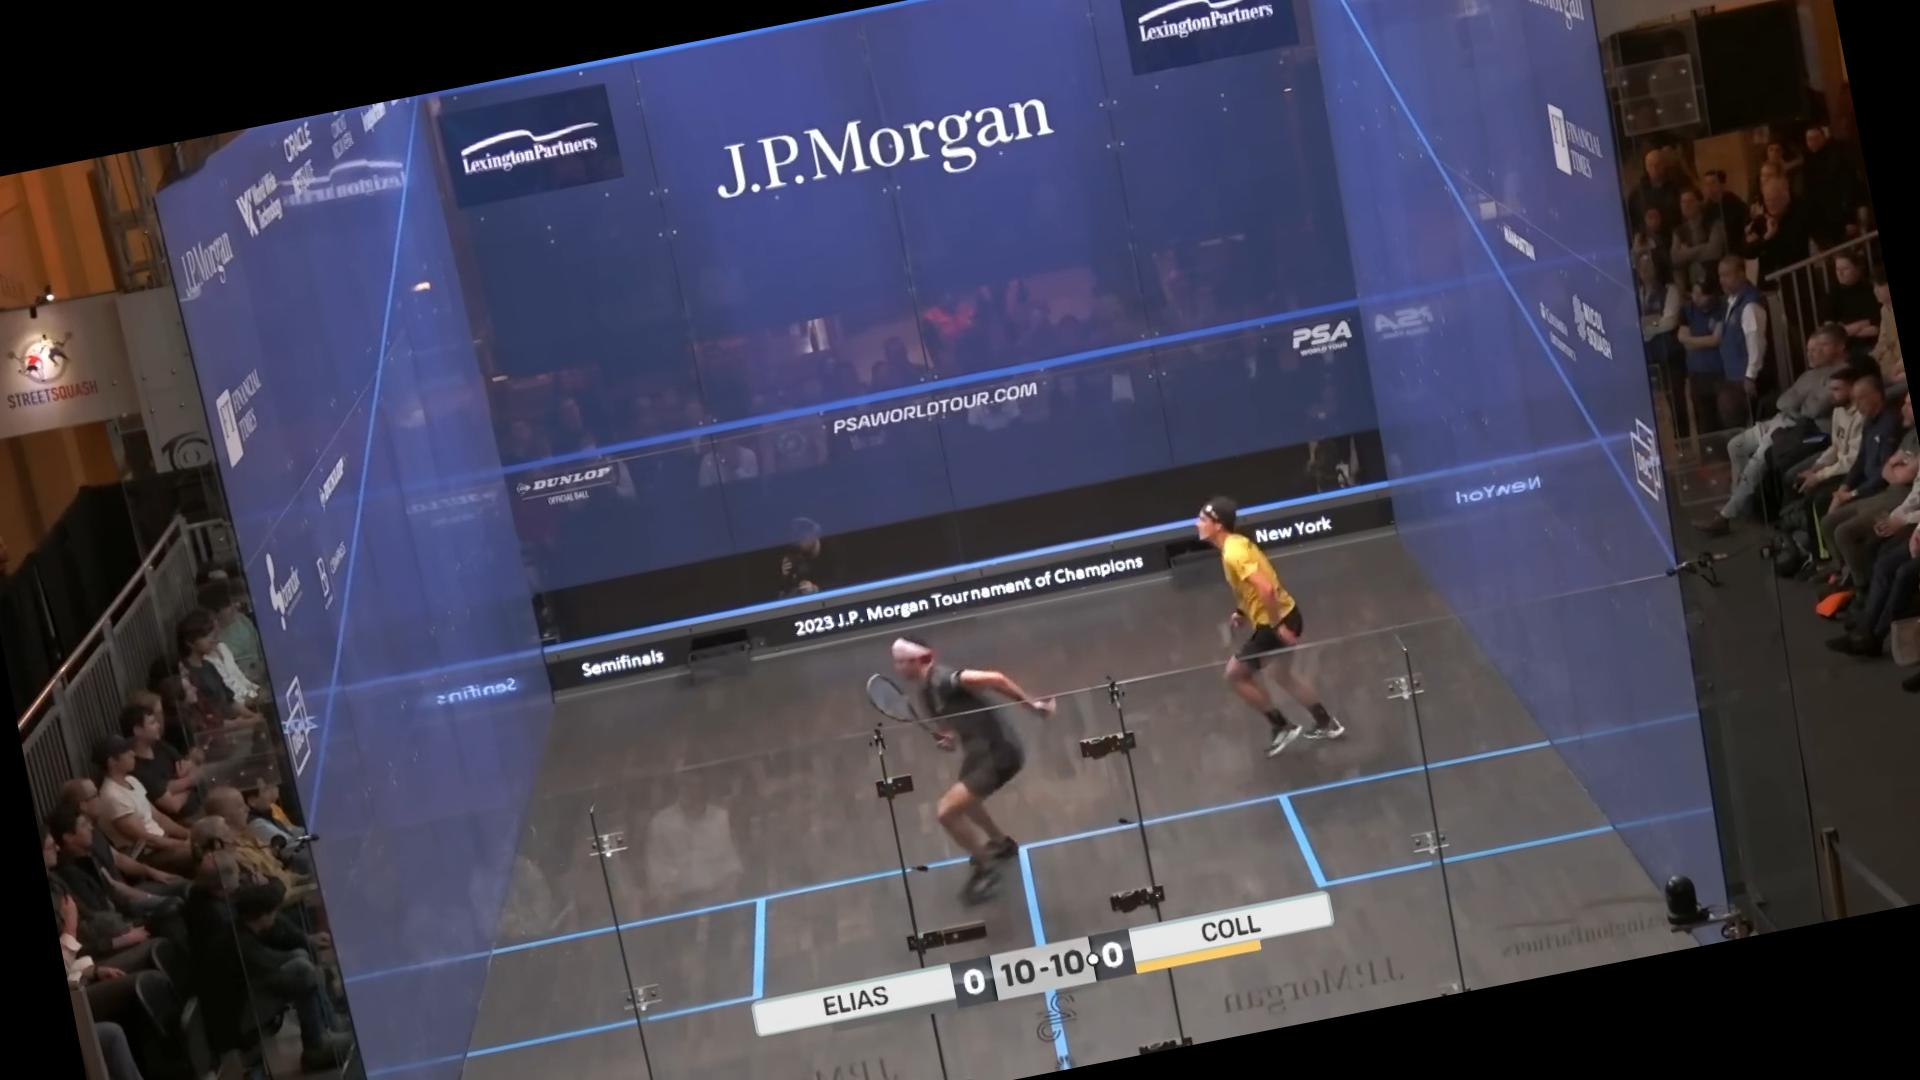Racket: (853, 655, 952, 764)
